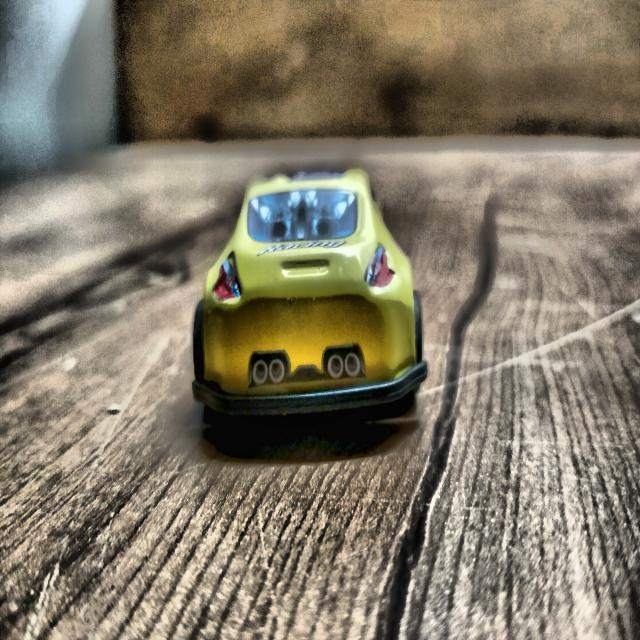Car: (192, 171, 426, 415)
